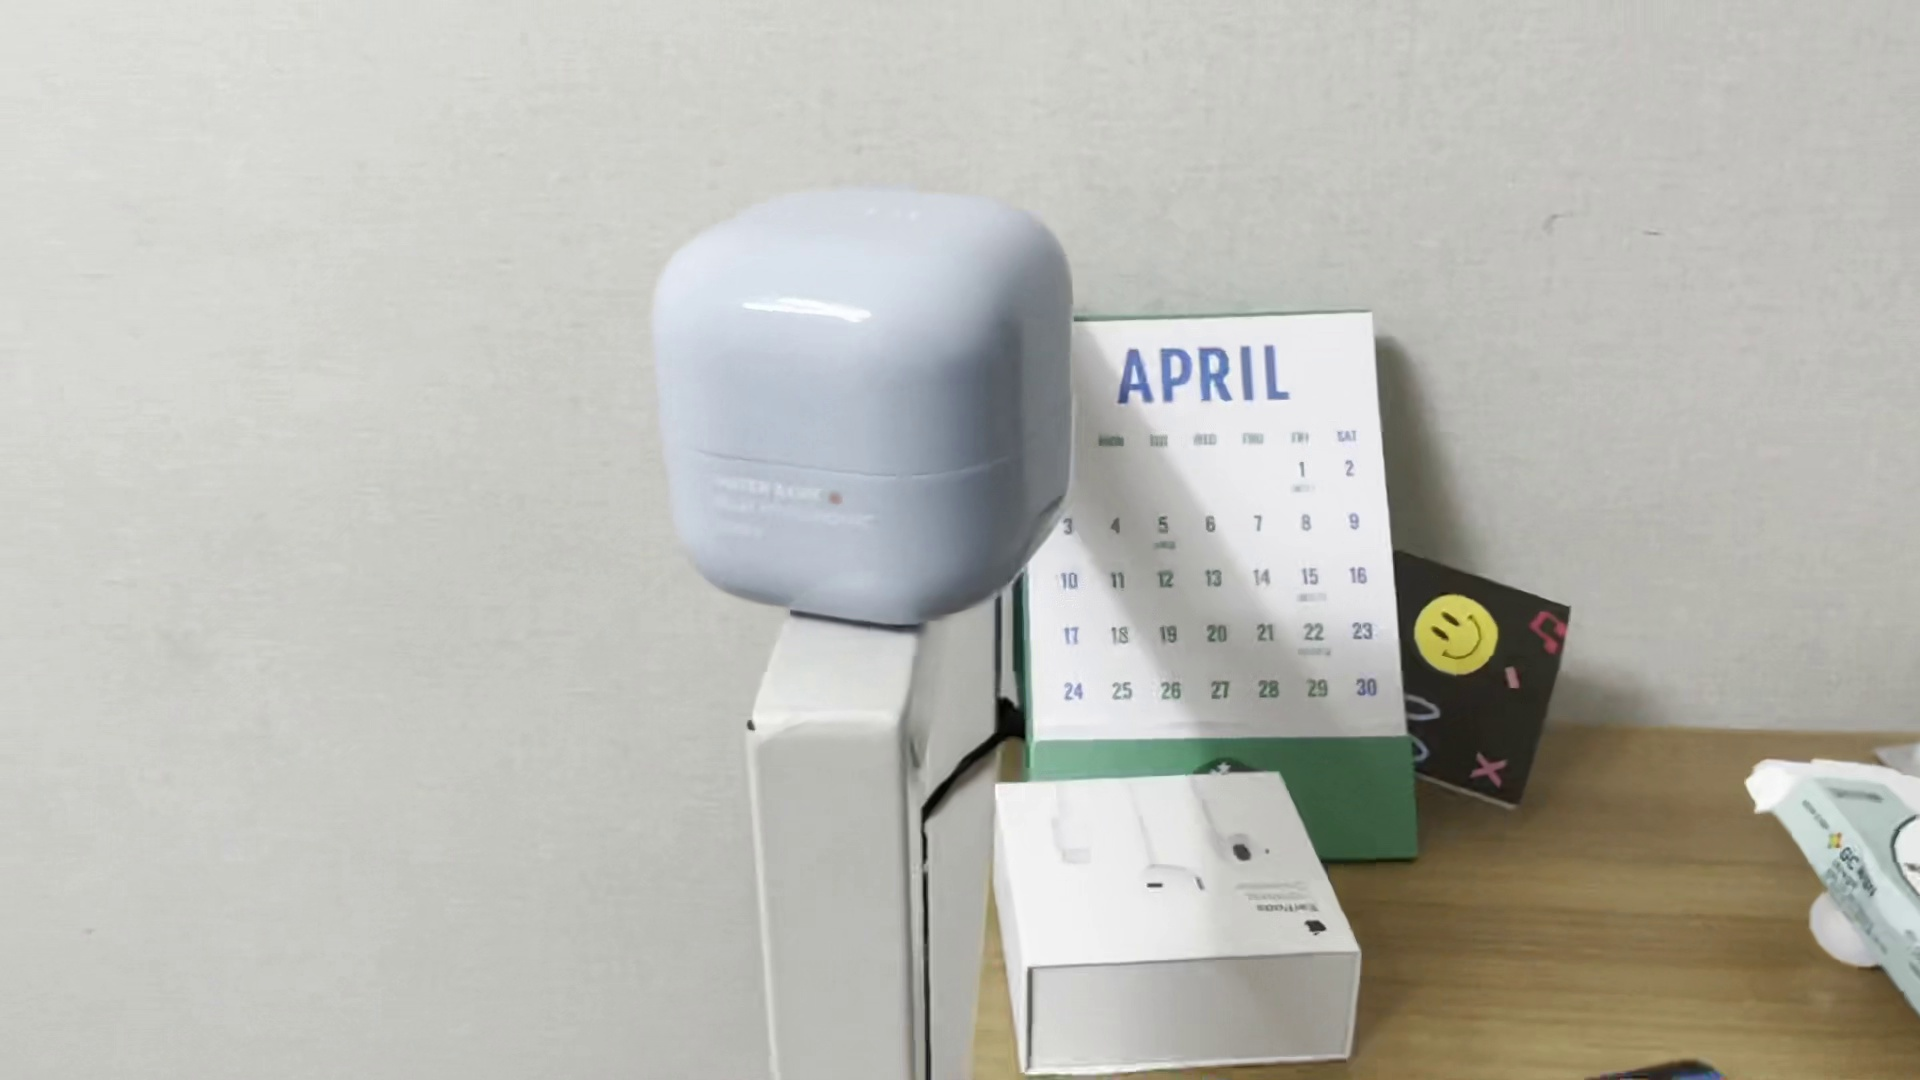cream: (651, 182, 1077, 621)
